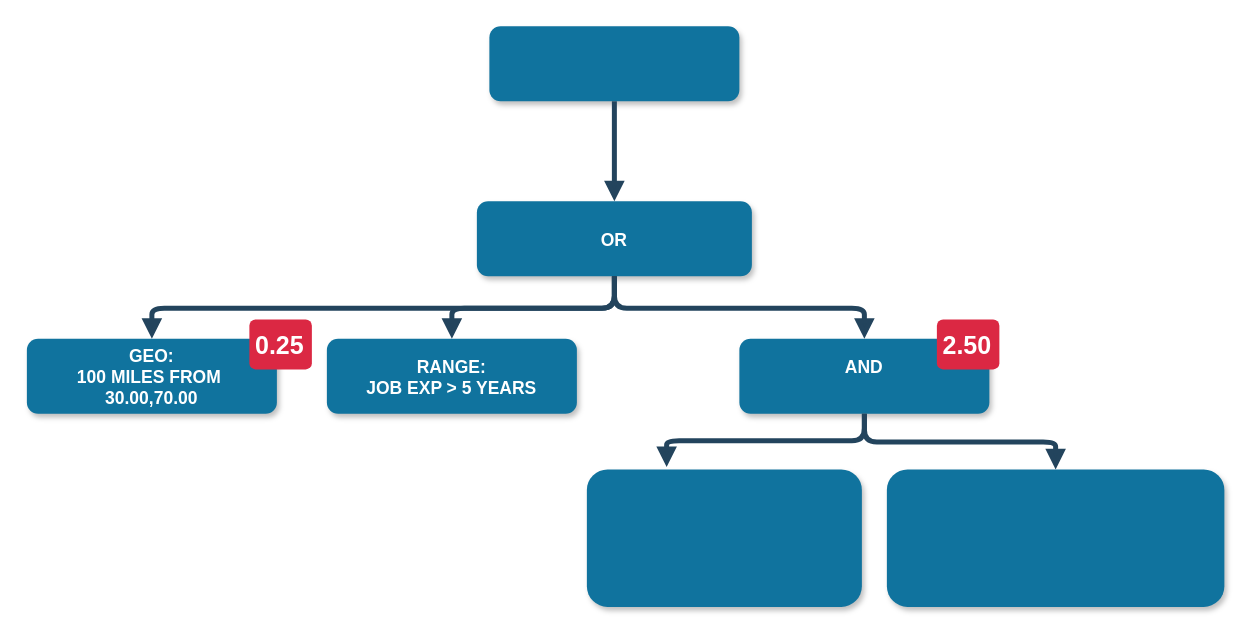
This 1253x638 diagram has some shape labels left out. Here are the shapes that lost their labels. From the top down, the centre of each, then its label:
At point (615, 65): "MAIN QUERY".
At point (725, 539): "RANGE: JOB_HISTORY.EXP > 5 YEARS".
At point (1056, 539): "EQUAL: JOB_HISTORY.INDUSTRY = IT".
